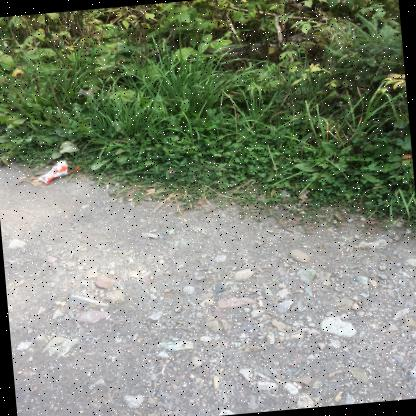Cigarette: (259, 300, 264, 307)
Other plastic: (38, 161, 80, 185)
